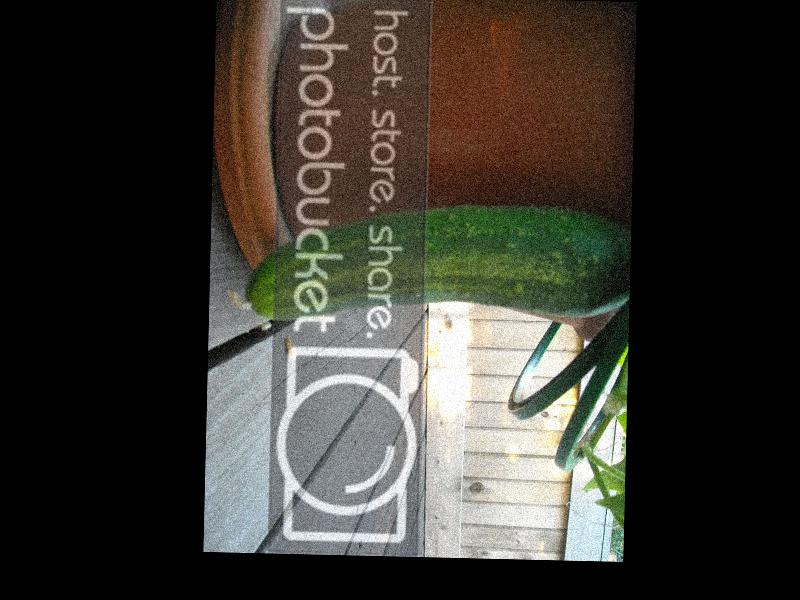Cucumber: (228, 198, 627, 328)
